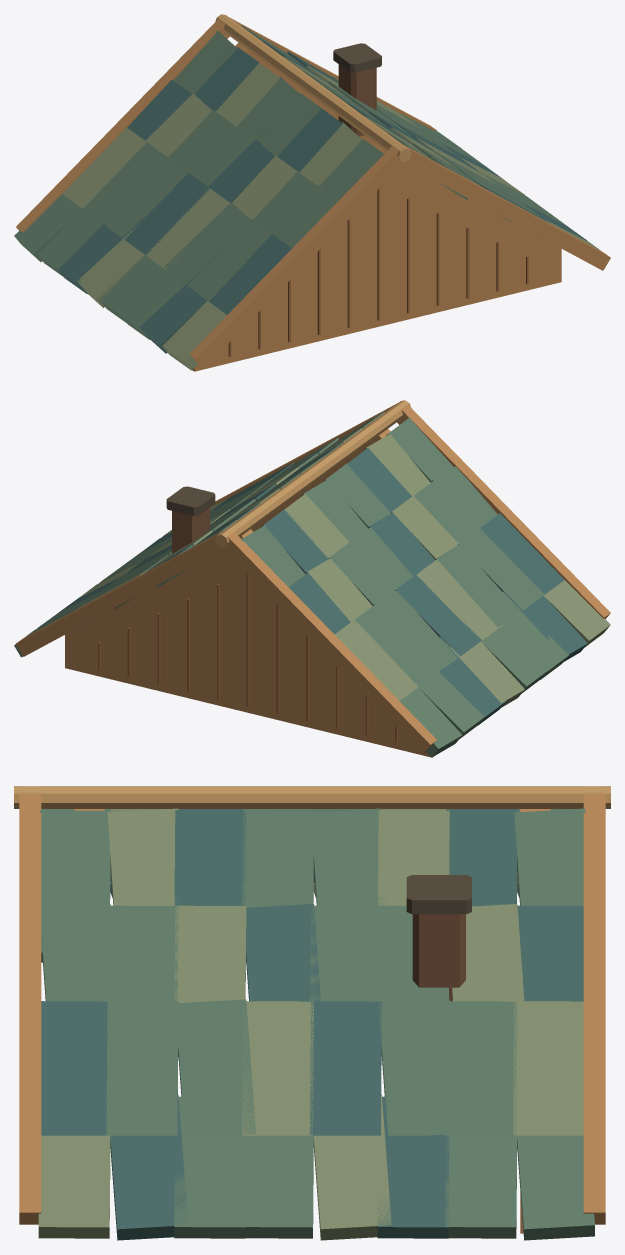
File: wood_roof.glb
3 renders of one model, top to bottom at view 1: azimuth 30°, elevation 25°; view 2: azimuth 150°, elevation 25°; view 3: azimuth 270°, elevation 25°, orthographic. The views are drawn at different scales.
Parts seen in each view (by area): view 1: wood_roof; view 2: wood_roof; view 3: wood_roof.
Part boxes in pixels (<box>): wood_roof: <box>14,14,610,371</box>; wood_roof: <box>14,400,610,757</box>; wood_roof: <box>14,786,610,1240</box>.
Size of the model in its own units: 0.7357 by 0.311 by 0.546.
